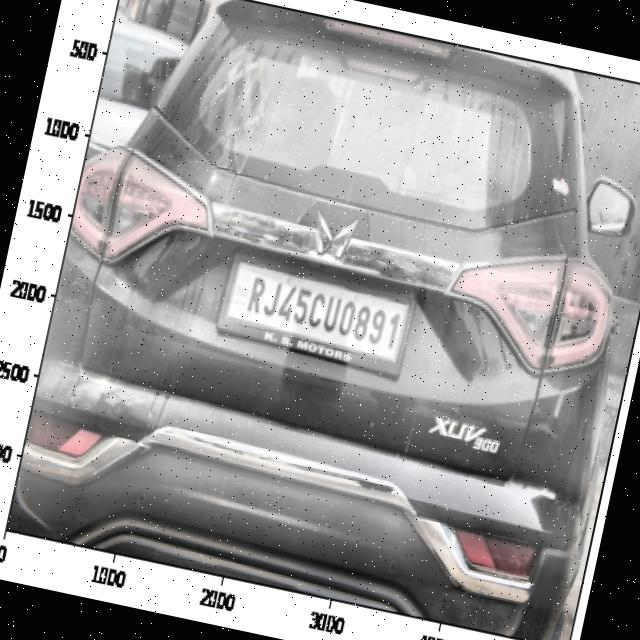license_plate: (233, 265, 410, 362)
